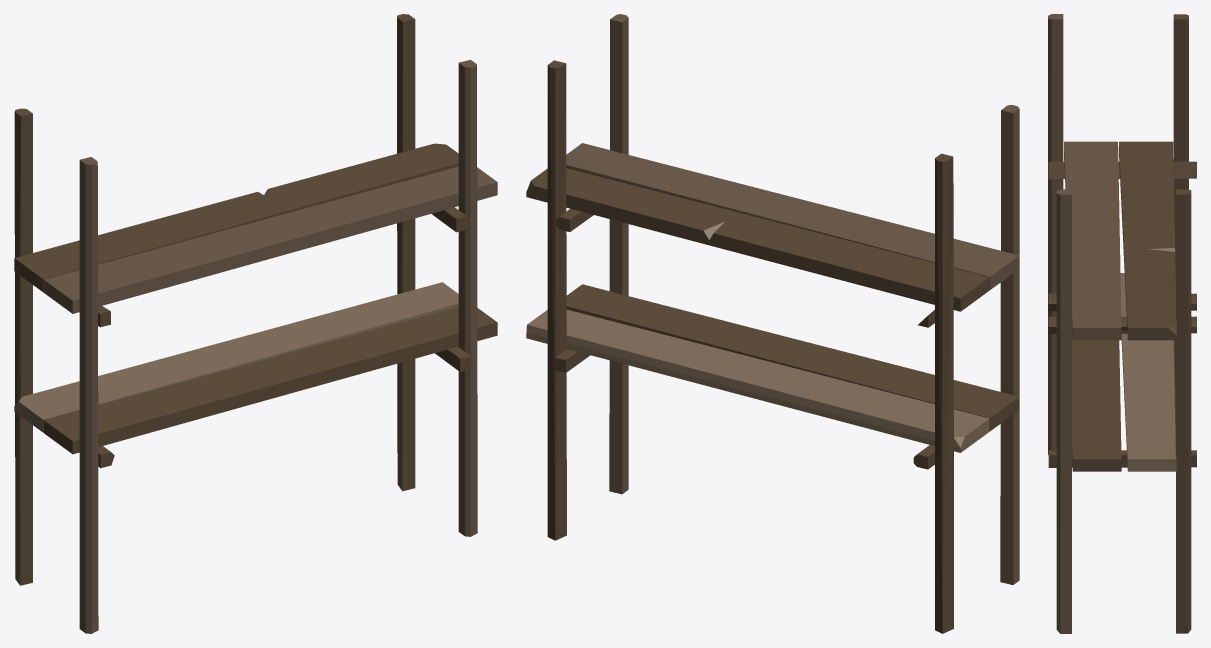
The model's file is EA03_Prop_House_Shelf_01a.glb.
The picture shows the model from 3 angles, left to right: view 1: azimuth 30°, elevation 25°; view 2: azimuth 150°, elevation 25°; view 3: azimuth 270°, elevation 25°; orthographic projection. The views are drawn at different scales.
Parts seen in each view (by area): view 1: EA03_Prop_House_Shelf_01a; view 2: EA03_Prop_House_Shelf_01a; view 3: EA03_Prop_House_Shelf_01a.
Part boxes in pixels (x1,y1,x2,y2): EA03_Prop_House_Shelf_01a: (14,14,497,633); EA03_Prop_House_Shelf_01a: (526,14,1019,633); EA03_Prop_House_Shelf_01a: (1048,14,1196,633).
Size of the model in its own units: 2.29 by 2.39 by 0.7349.
1 material, 1 textured.
